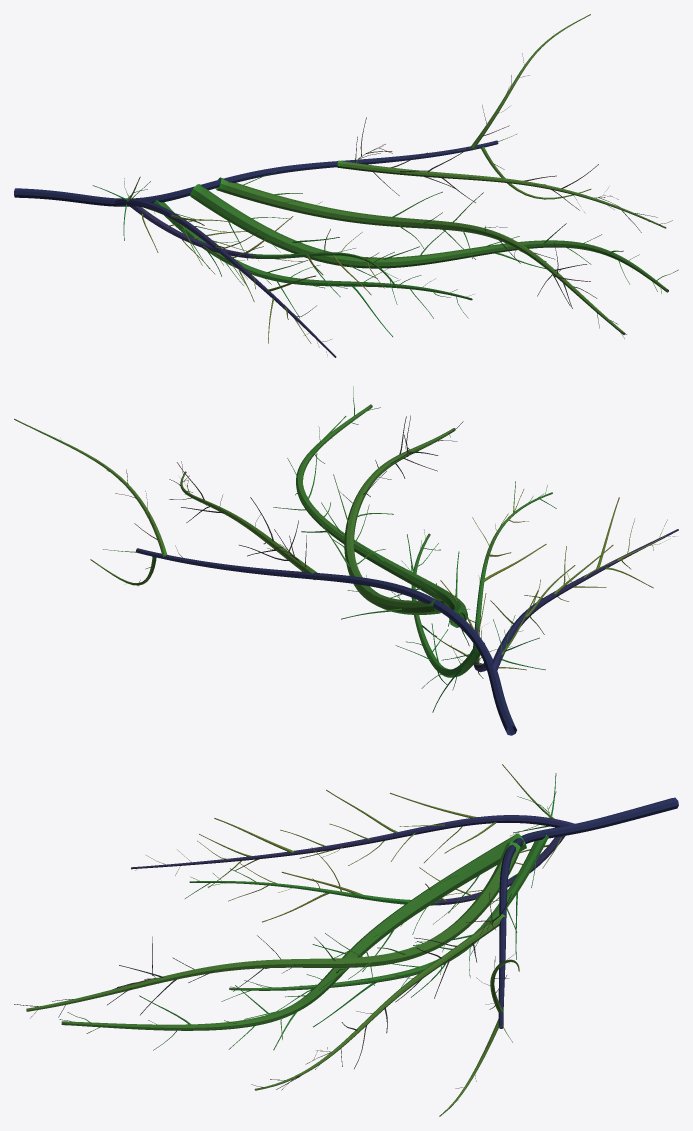
The model's file is rm_side_0.20.obj.
3 views of the same model, one above another, from view 1: azimuth 30°, elevation 25°; view 2: azimuth 150°, elevation 25°; view 3: azimuth 270°, elevation 25° (orthographic). The views are drawn at different scales.
Bounding box in the file's own units: 1.95 × 0.6873 × 1.89.
